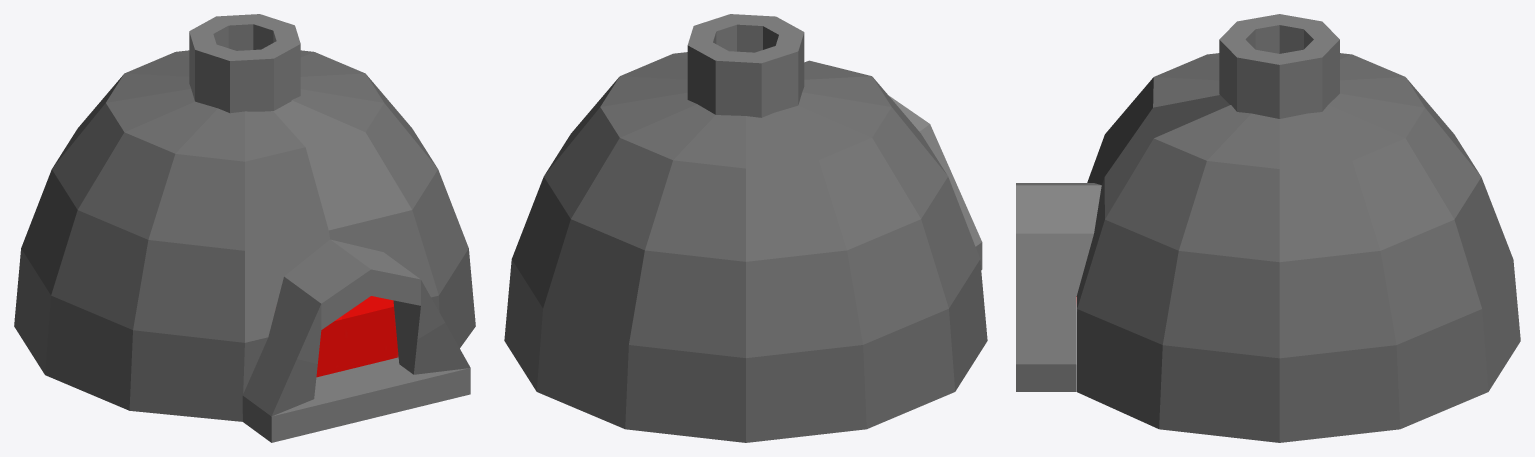
The model's file is Blacksmith.fbx.
The picture shows the model from 3 angles, left to right: view 1: azimuth 30°, elevation 25°; view 2: azimuth 150°, elevation 25°; view 3: azimuth 270°, elevation 25°; orthographic projection. The views are drawn at different scales.
Visible parts, largest first — view 1: BuildingPrefab; view 2: BuildingPrefab; view 3: BuildingPrefab.
Boxes of the visible parts, box(x1,y1,x2,y2) form: BuildingPrefab: box(14, 14, 475, 442); BuildingPrefab: box(504, 14, 987, 442); BuildingPrefab: box(1016, 14, 1520, 442).
Bounding box in the file's own units: 800 × 552 × 837.
